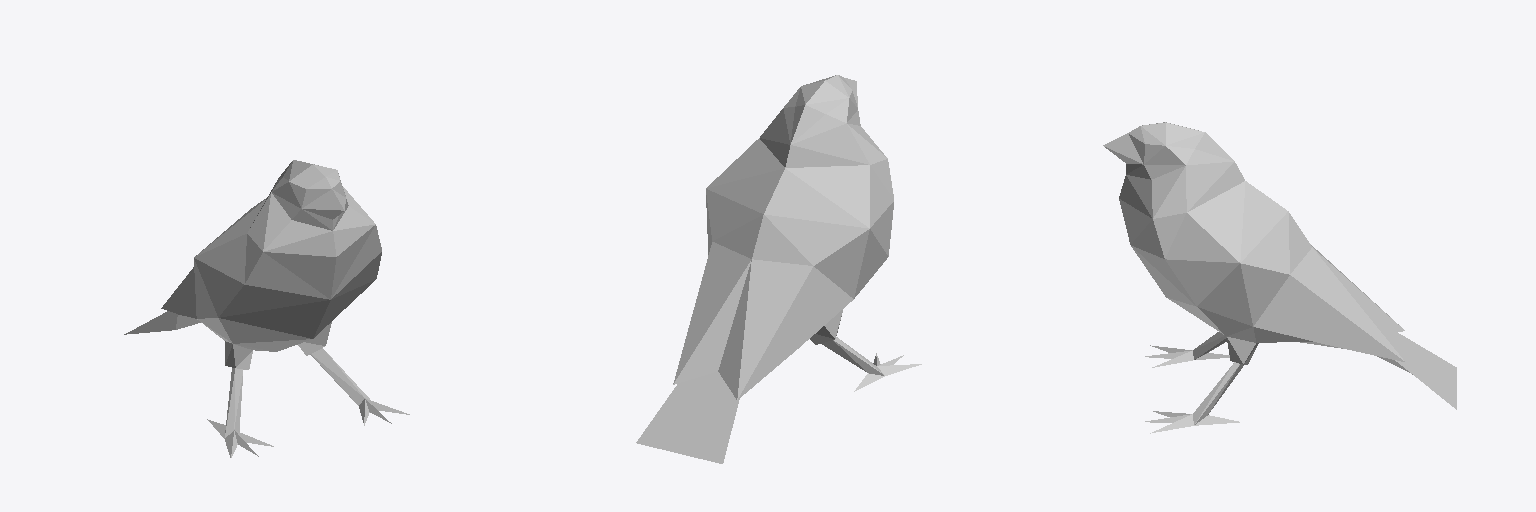
File: _bullfinch.obj
The picture shows the model from 3 angles: view 1: azimuth 30°, elevation 25°; view 2: azimuth 150°, elevation 25°; view 3: azimuth 270°, elevation 25°; orthographic projection.
Parts seen in each view (by area): view 1: Plane; view 2: Plane; view 3: Plane.
Boxes of the visible parts, <box> form: Plane: <box>124,160,409,457</box>; Plane: <box>636,75,921,463</box>; Plane: <box>1103,122,1456,433</box>.
Size of the model in its own units: 1.07 by 1.5 by 1.81.